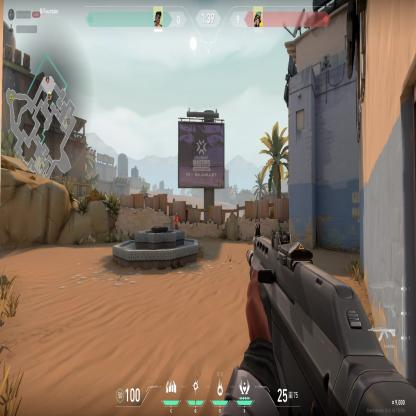enemy: (172, 211, 179, 229)
